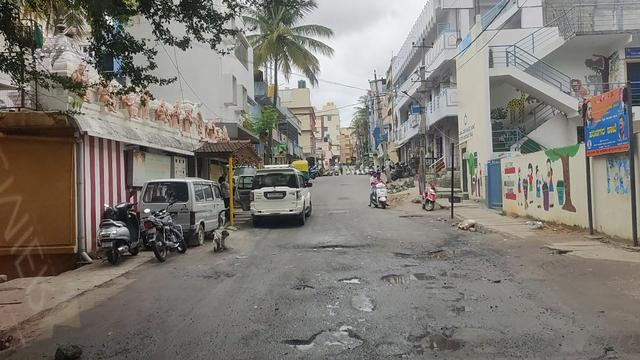LMV: (367, 171, 388, 207)
RoadDamages: (398, 332, 471, 354), (291, 329, 363, 350), (441, 276, 480, 310), (377, 268, 437, 288), (344, 293, 385, 316), (391, 246, 449, 262), (293, 238, 359, 252), (338, 268, 364, 290), (291, 281, 312, 294)
